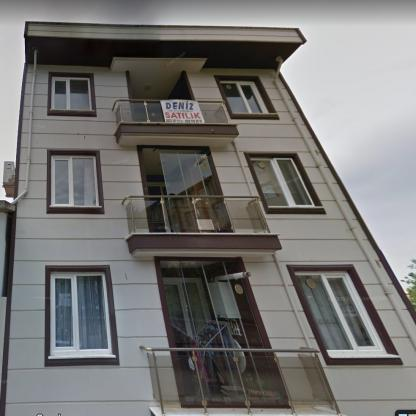window: (160, 257, 288, 408), (297, 274, 378, 351), (160, 150, 227, 230), (56, 275, 108, 349), (252, 159, 312, 206), (163, 278, 208, 336), (55, 158, 96, 204), (221, 83, 264, 114), (53, 79, 90, 109)
